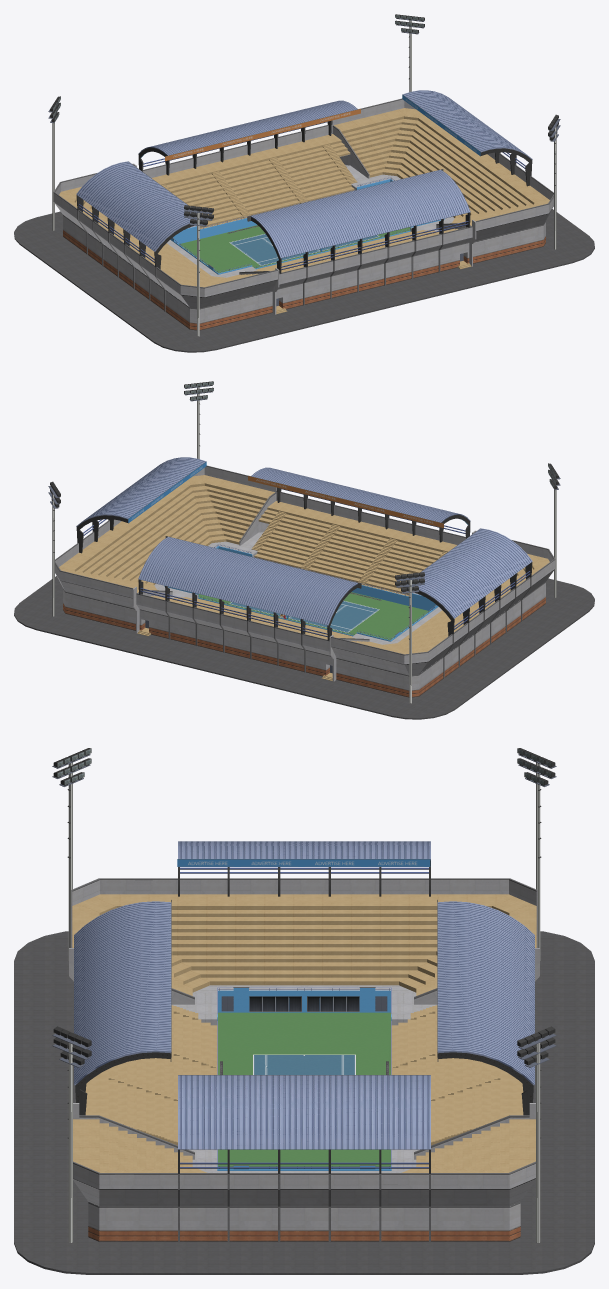
Rendered from TenissCourt.fbx.
The picture shows the model from 3 angles, top to bottom: view 1: azimuth 30°, elevation 25°; view 2: azimuth 150°, elevation 25°; view 3: azimuth 270°, elevation 25°; orthographic projection. The views are drawn at different scales.
Parts seen in each view (by area): view 1: polySurface44, pCylinder9, polySurface41, polySurface48, pCylinder2, pCylinder3, pCylinder12, polySurface47, pCylinder1, pCube25, pCube397, pCylinder11 (+14 smaller); view 2: polySurface44, pCylinder11, polySurface42, polySurface48, pCylinder1, pCylinder4, pCylinder12, polySurface47, pCylinder2, pCube27, pCube396, pCylinder9 (+14 smaller); view 3: polySurface47, polySurface43, pCylinder10, pCylinder3, pCylinder4, pCylinder9, pCylinder11, polySurface51, pCylinder1, pCylinder2, polySurface44, polySurface48 (+20 smaller).
Part boxes in pixels (x1,y1,x2,y2): polySurface44: (334,108,549,225); pCylinder9: (251,169,470,258); polySurface41: (152,134,355,229); polySurface48: (53,164,277,330); pCylinder2: (87,283,394,352); pCylinder3: (372,209,594,306); pCylinder12: (76,161,202,251); polySurface47: (333,98,553,263); pCylinder1: (14,211,125,293); pCube25: (371,226,472,288); pCube397: (276,250,374,309); pCylinder11: (138,100,357,155); polySurface44: (59,475,274,592); pCylinder11: (138,536,357,625); polySurface42: (253,501,456,596); polySurface48: (331,531,555,697); pCylinder1: (214,650,521,719); pCylinder4: (14,576,236,673); pCylinder12: (406,528,532,618); polySurface47: (55,465,275,630); pCylinder2: (483,578,594,660); pCube27: (136,593,237,655); pCube396: (234,617,332,676); pCylinder9: (251,467,470,522); polySurface47: (73,1161,535,1241); polySurface43: (72,894,536,995); pCylinder10: (178,1075,430,1149); pCylinder3: (14,1101,304,1274); pCylinder4: (304,1101,594,1274); pCylinder9: (74,901,171,1085); pCylinder11: (437,901,534,1085); polySurface51: (218,1012,390,1166); pCylinder1: (533,931,594,1101); pCylinder2: (14,931,75,1101); polySurface44: (73,1119,535,1172); polySurface48: (71,878,537,947).
Bounding box in the file's own units: 8702 × 2472 × 6230.
